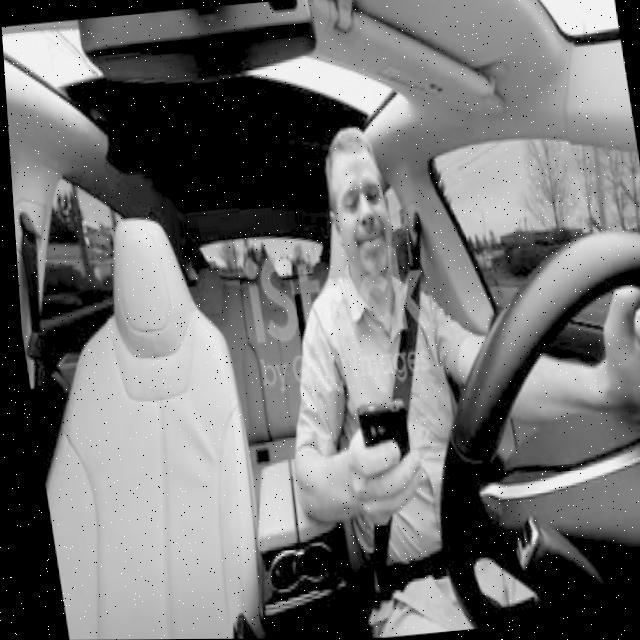PhoneCall: (349, 398, 414, 508)
